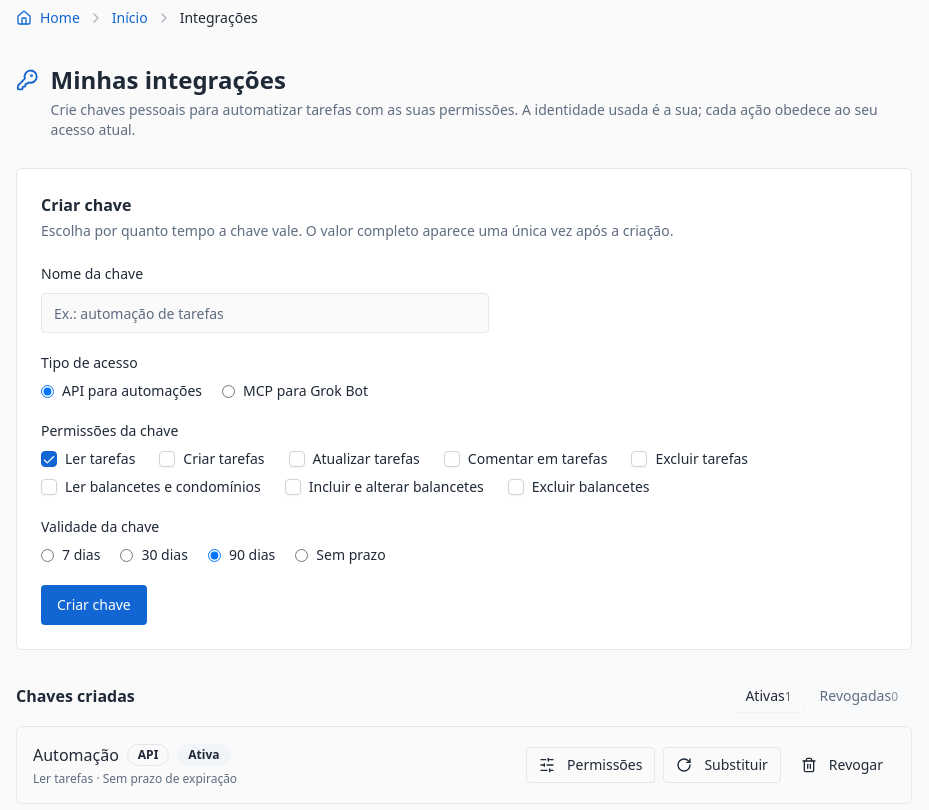
personal integration keys › key lifetime › preselects the same lifetime when replacing no deadline
This screenshot has width=929, height=810.
Step 1. Click the button "Substituir" → (722, 765), box [663, 747, 781, 783]
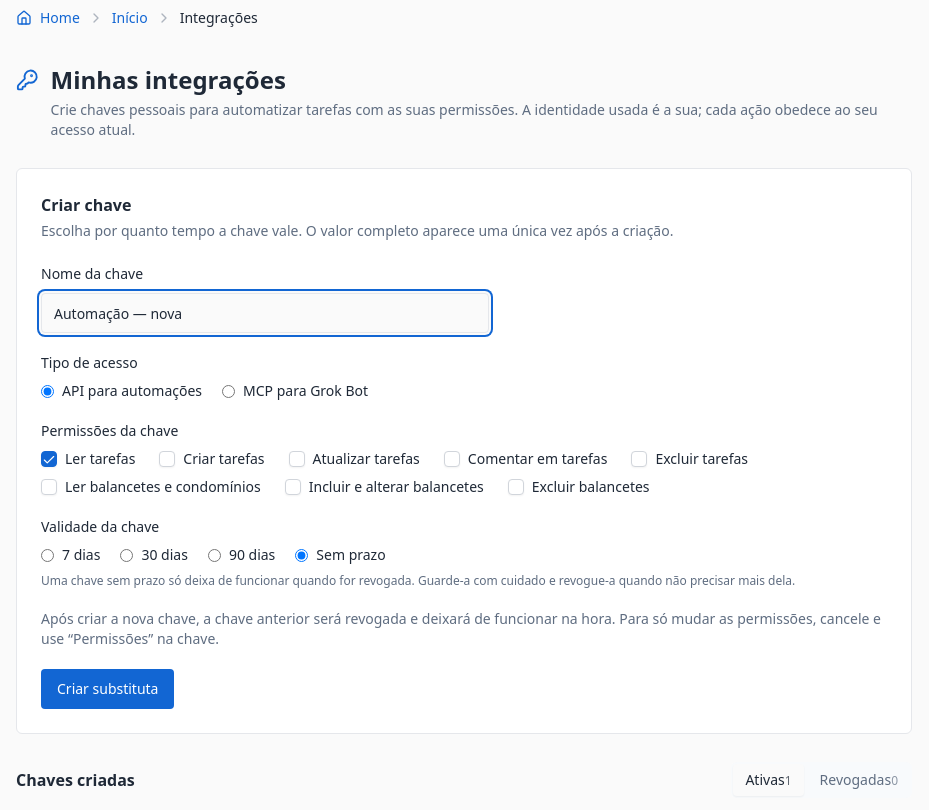
Check: the radio button labelled "Sem prazo" is checked, box [295, 548, 308, 562]
